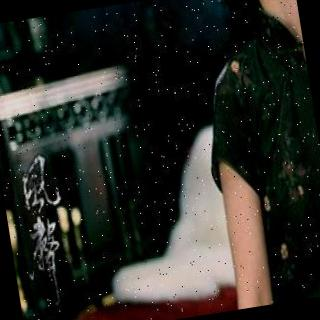smoke: (0, 0, 298, 59)
